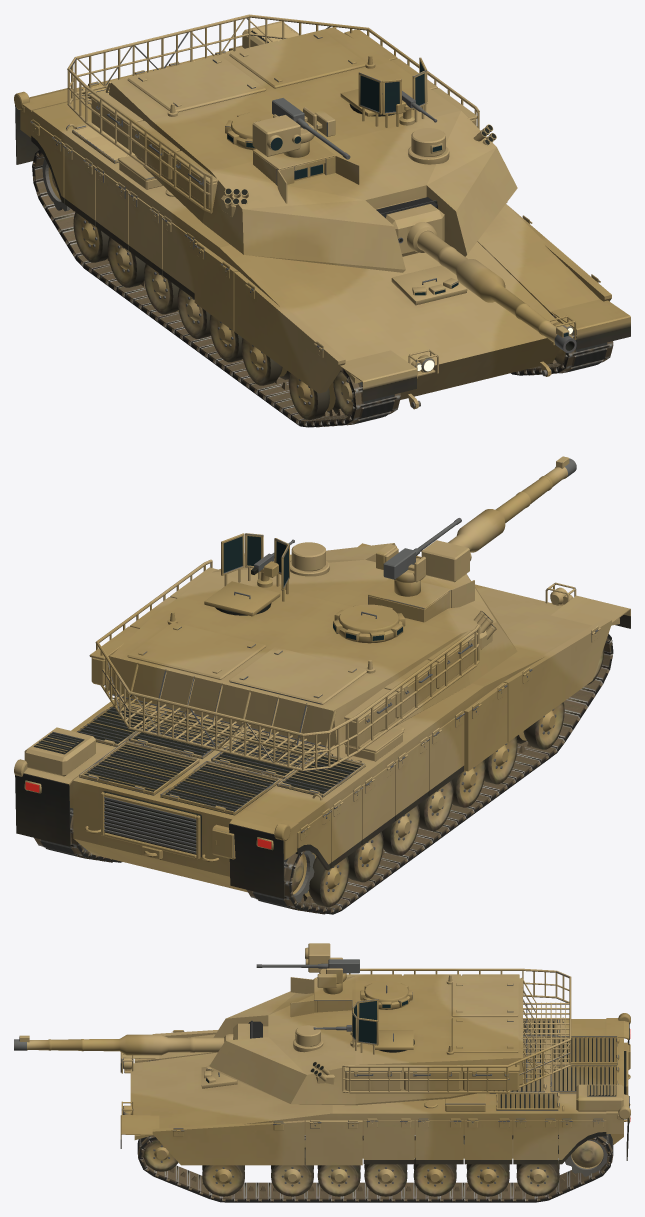
3 renders of one model, top to bottom at view 1: azimuth 30°, elevation 25°; view 2: azimuth 150°, elevation 25°; view 3: azimuth 270°, elevation 25°, orthographic. The views are drawn at different scales.
Visible parts, largest first — view 1: turret_shell, hull_shell, band_r, gun_shell, disc_r1, band_l, disc_r8, disc_r2, disc_r9, disc_r6, disc_r5, disc_r4 (+1 smaller); view 2: hull_shell, turret_shell, band_r, gun_shell, disc_r9, disc_r6, disc_r1, disc_r8, disc_r5, disc_r4, disc_r2, band_l (+1 smaller); view 3: hull_shell, turret_shell, band_l, gun_shell, disc_l6, disc_l9, disc_l5, disc_l8, disc_l2, disc_l4, disc_l1, disc_l10 (+1 smaller).
Part boxes in pixels (box(x1,y1,x2,y2)): turret_shell: box(67, 14, 517, 272); hull_shell: box(14, 21, 630, 409); band_r: box(32, 150, 400, 427); gun_shell: box(375, 197, 576, 353); disc_r1: box(288, 372, 342, 419); band_l: box(511, 311, 613, 375); disc_r8: box(107, 237, 145, 287); disc_r2: box(241, 338, 289, 385); disc_r9: box(73, 212, 109, 262); disc_r6: box(144, 264, 179, 314); disc_r5: box(177, 288, 210, 338); disc_r4: box(209, 315, 242, 362); hull_shell: box(14, 543, 630, 898); turret_shell: box(89, 518, 517, 771); band_r: box(246, 634, 613, 914); gun_shell: box(416, 456, 576, 560); disc_r9: box(303, 852, 349, 907); disc_r6: box(382, 805, 419, 855); disc_r1: box(516, 702, 564, 749); disc_r8: box(347, 831, 383, 882); disc_r5: box(418, 780, 453, 830); disc_r4: box(452, 760, 485, 807); disc_r2: box(484, 736, 517, 784); band_l: box(34, 808, 121, 862); hull_shell: box(120, 1013, 630, 1165); turret_shell: box(209, 943, 571, 1105); band_l: box(137, 1134, 613, 1202); gun_shell: box(14, 1020, 268, 1055); disc_l6: box(413, 1158, 456, 1196); disc_l9: box(516, 1158, 559, 1196); disc_l5: box(364, 1164, 407, 1196); disc_l8: box(466, 1164, 509, 1196); disc_l2: box(271, 1149, 313, 1196); disc_l4: box(317, 1165, 360, 1196); disc_l1: box(202, 1165, 244, 1196); disc_l10: box(565, 1139, 607, 1176).
Size of the model in its own units: 3.73 by 3.12 by 9.77.
Materials: 5 (3 with a texture image).
